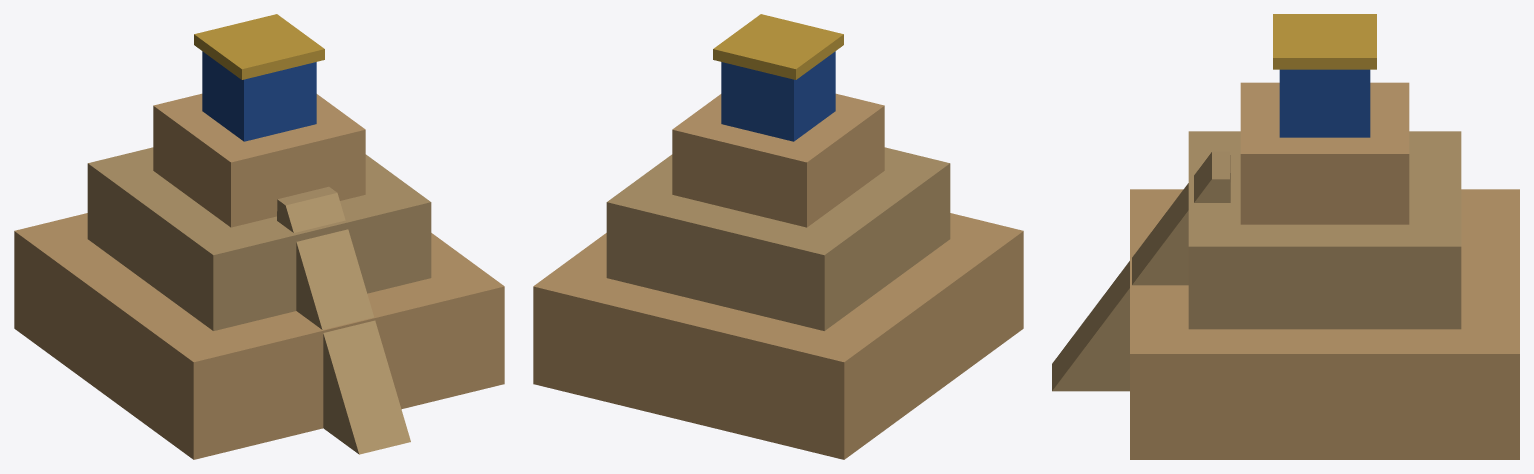
The model's file is minotaur_landmark_broken.glb.
3 renders of one model, left to right at view 1: azimuth 30°, elevation 25°; view 2: azimuth 150°, elevation 25°; view 3: azimuth 270°, elevation 25°, orthographic. The views are drawn at different scales.
Visible parts, largest first — view 1: minotaur_landmark_piece0, minotaur_landmark_piece4, minotaur_landmark_piece8, minotaur_landmark_piece7, minotaur_landmark_piece13, minotaur_landmark_piece5, minotaur_landmark_piece6, minotaur_landmark_piece11, minotaur_landmark_piece3, minotaur_landmark_piece2; view 2: minotaur_landmark_piece4, minotaur_landmark_piece1, minotaur_landmark_piece8, minotaur_landmark_piece7, minotaur_landmark_piece2, minotaur_landmark_piece11, minotaur_landmark_piece10, minotaur_landmark_piece0; view 3: minotaur_landmark_piece5, minotaur_landmark_piece6, minotaur_landmark_piece11, minotaur_landmark_piece2, minotaur_landmark_piece1, minotaur_landmark_piece0, minotaur_landmark_piece3, minotaur_landmark_piece4, minotaur_landmark_piece13, minotaur_landmark_piece10, minotaur_landmark_piece7, minotaur_landmark_piece12 (+1 smaller).
Part boxes in pixels (x1=…): minotaur_landmark_piece0: x1=197, y1=281, x2=460, y2=454; minotaur_landmark_piece4: x1=14, y1=144, x2=177, y2=373; minotaur_landmark_piece8: x1=77, y1=225, x2=243, y2=459; minotaur_landmark_piece7: x1=153, y1=72, x2=295, y2=292; minotaur_landmark_piece13: x1=211, y1=196, x2=425, y2=355; minotaur_landmark_piece5: x1=317, y1=149, x2=504, y2=370; minotaur_landmark_piece6: x1=353, y1=188, x2=504, y2=394; minotaur_landmark_piece11: x1=226, y1=14, x2=384, y2=168; minotaur_landmark_piece3: x1=274, y1=109, x2=385, y2=308; minotaur_landmark_piece2: x1=194, y1=26, x2=289, y2=175; minotaur_landmark_piece4: x1=662, y1=191, x2=920, y2=459; minotaur_landmark_piece1: x1=533, y1=141, x2=817, y2=415; minotaur_landmark_piece8: x1=898, y1=189, x2=1023, y2=413; minotaur_landmark_piece7: x1=748, y1=98, x2=950, y2=224; minotaur_landmark_piece2: x1=554, y1=33, x2=854, y2=272; minotaur_landmark_piece11: x1=628, y1=14, x2=838, y2=186; minotaur_landmark_piece10: x1=533, y1=142, x2=745, y2=317; minotaur_landmark_piece0: x1=934, y1=190, x2=1000, y2=243; minotaur_landmark_piece5: x1=1130, y1=183, x2=1375, y2=446; minotaur_landmark_piece6: x1=1130, y1=209, x2=1418, y2=459; minotaur_landmark_piece11: x1=1240, y1=16, x2=1417, y2=274; minotaur_landmark_piece2: x1=1240, y1=14, x2=1475, y2=409; minotaur_landmark_piece1: x1=1316, y1=106, x2=1519, y2=459; minotaur_landmark_piece0: x1=1052, y1=201, x2=1169, y2=391; minotaur_landmark_piece3: x1=1145, y1=106, x2=1405, y2=428; minotaur_landmark_piece4: x1=1409, y1=131, x2=1519, y2=270; minotaur_landmark_piece13: x1=1112, y1=148, x2=1240, y2=311; minotaur_landmark_piece10: x1=1398, y1=118, x2=1519, y2=406; minotaur_landmark_piece7: x1=1188, y1=82, x2=1409, y2=175; minotaur_landmark_piece12: x1=1365, y1=296, x2=1458, y2=428.
Bounding box in the file's own units: 3 × 2.9 × 3.6.
